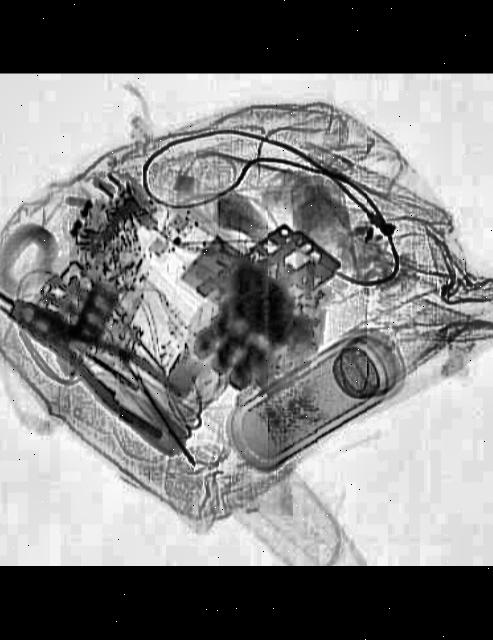Pliers: (0, 284, 203, 443)
